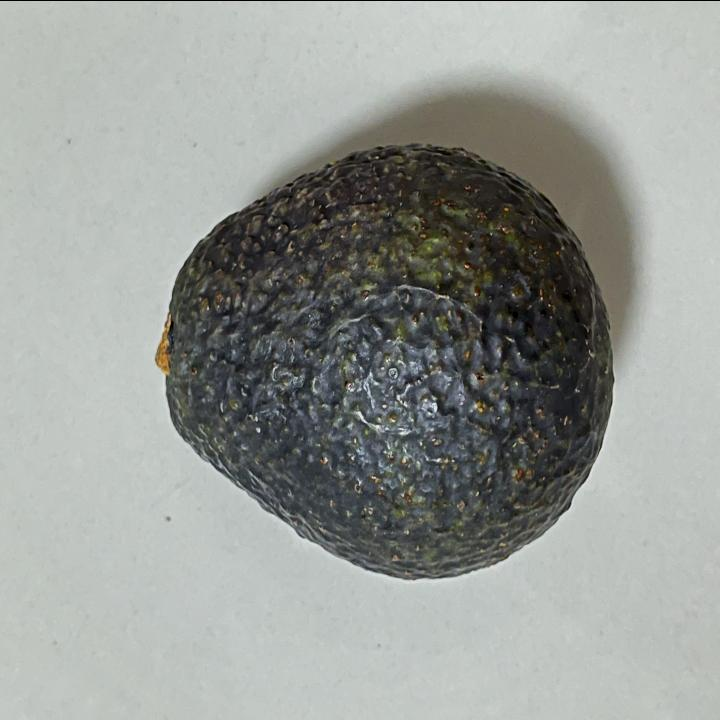Level1: (143, 133, 632, 593)
